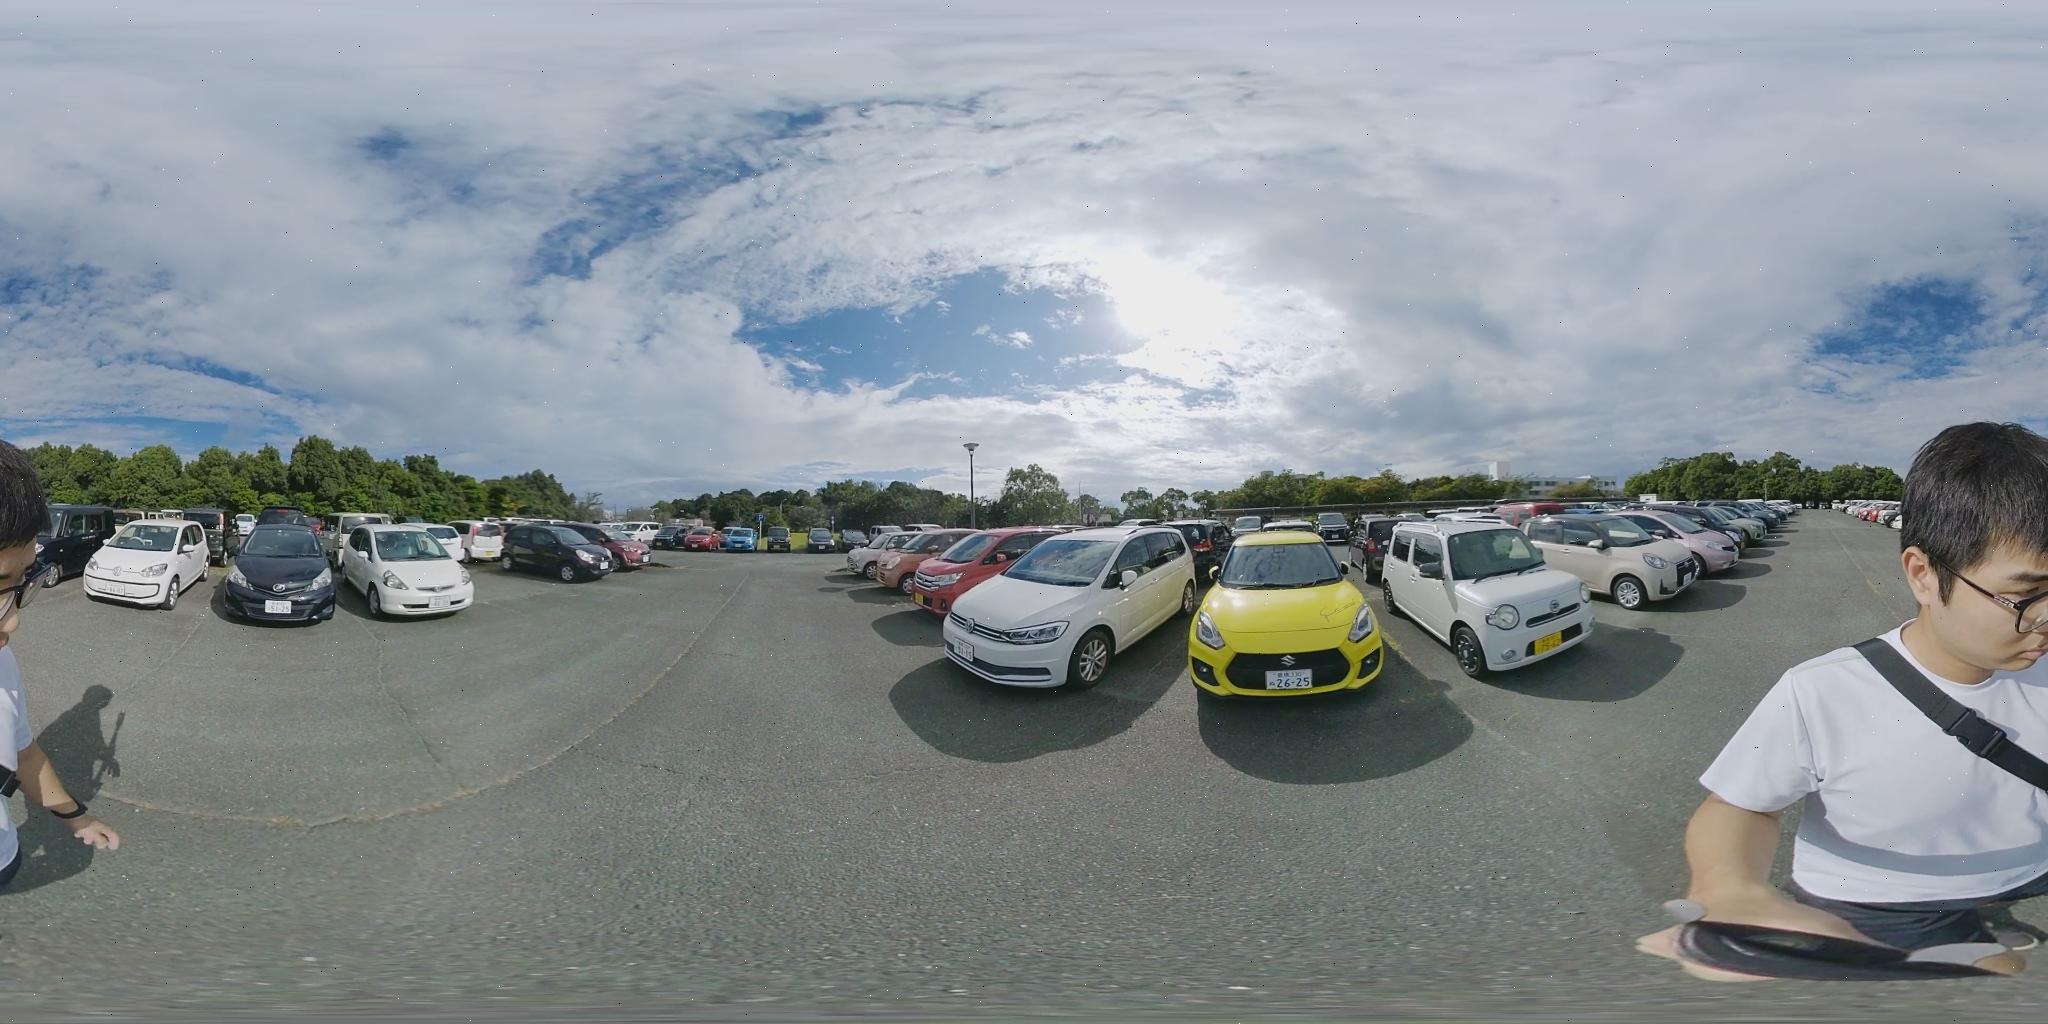car: (933, 524, 1216, 690), (1364, 516, 1597, 678), (1187, 529, 1391, 695), (1512, 511, 1714, 603), (899, 530, 1089, 619), (334, 524, 482, 620), (206, 521, 337, 630), (1562, 508, 1746, 583), (84, 520, 210, 610), (492, 522, 622, 583), (1637, 505, 1753, 572), (849, 529, 977, 583), (34, 505, 120, 583), (1849, 502, 1900, 524), (1317, 517, 1352, 543), (724, 530, 763, 552), (688, 530, 725, 550)
